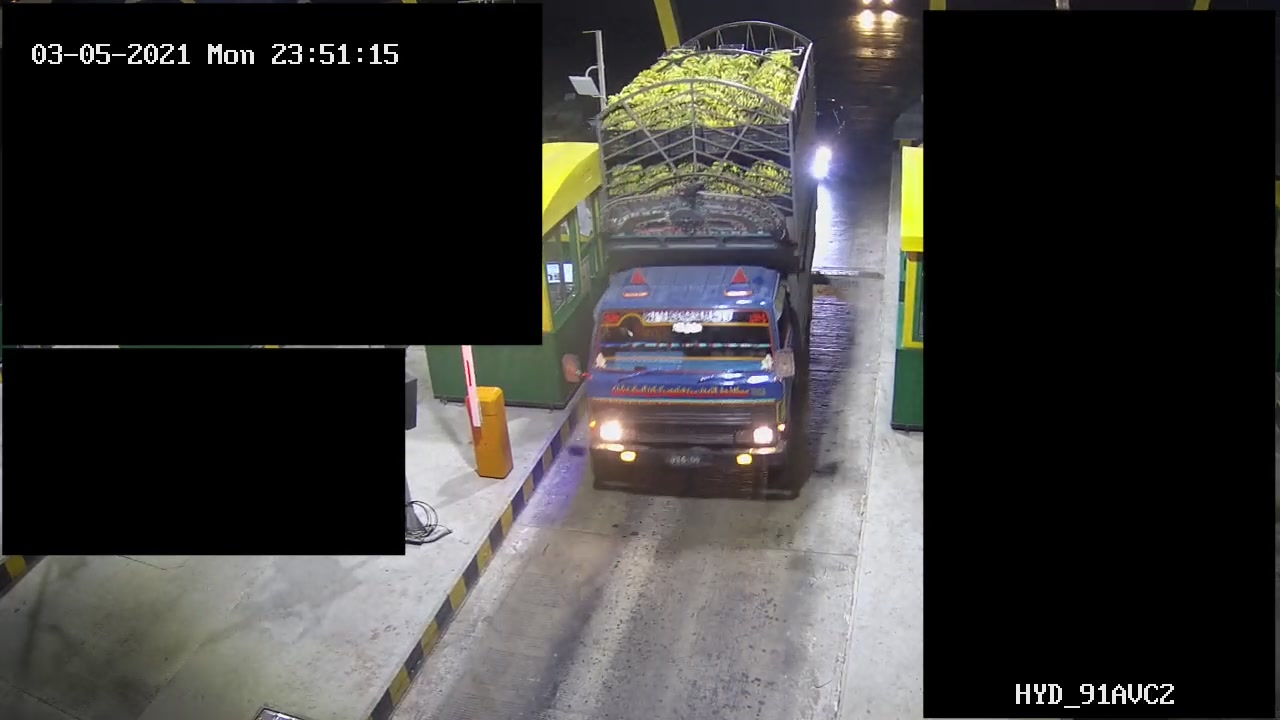F3: (576, 17, 826, 507)
